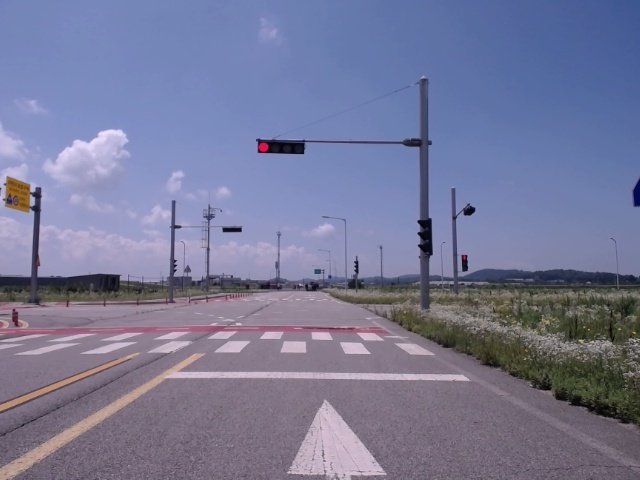red_4: (258, 140, 305, 154)
